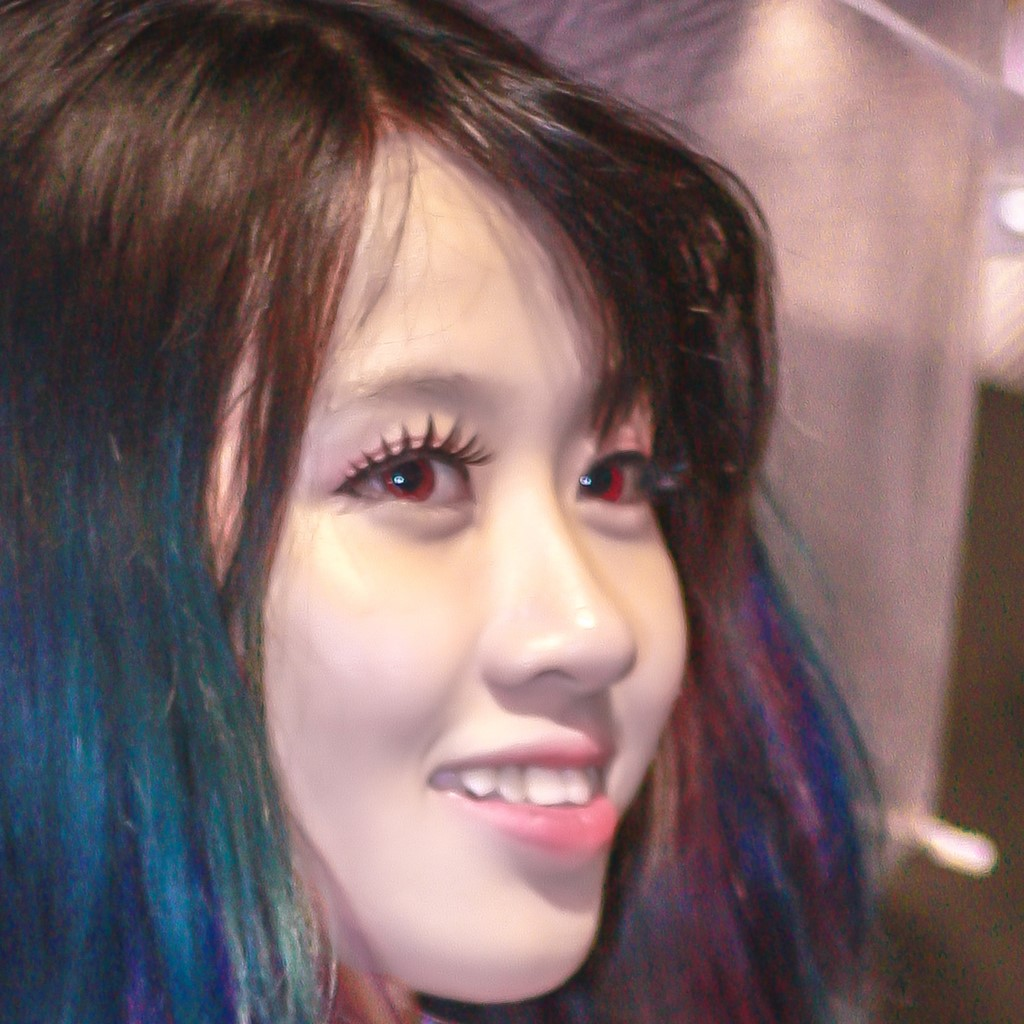sin_mascara: (171, 147, 689, 993)
